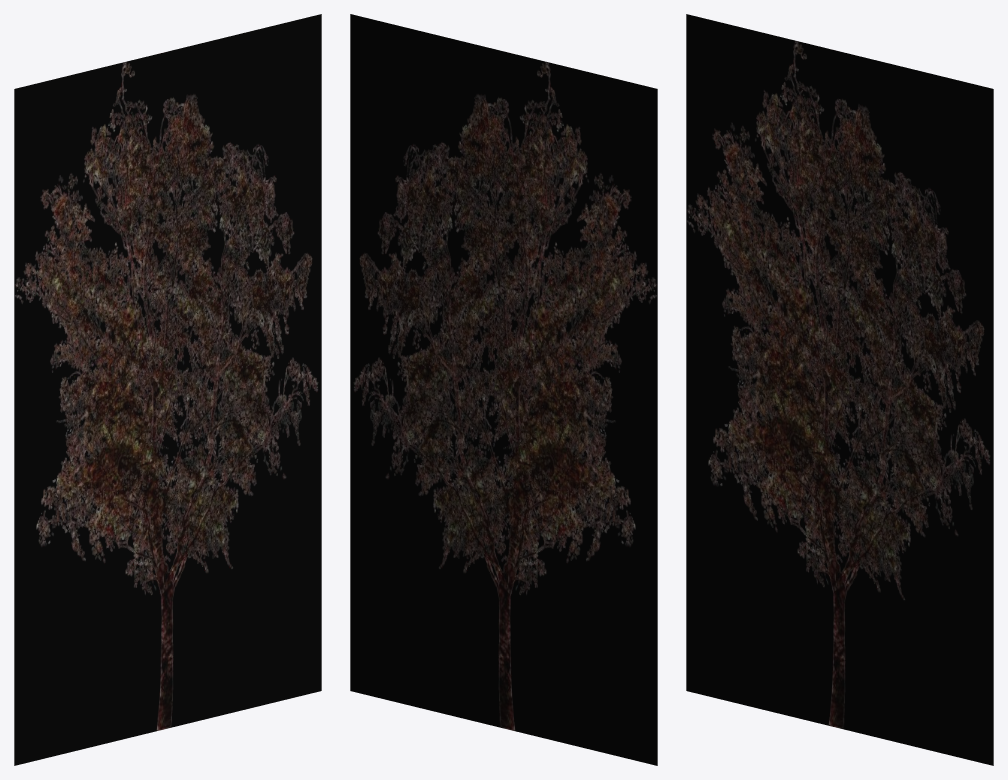
File: 血桦树2平面.gltf
The picture shows the model from 3 angles, left to right: view 1: azimuth 30°, elevation 25°; view 2: azimuth 150°, elevation 25°; view 3: azimuth 330°, elevation 25°; orthographic projection.
Parts seen in each view (by area): view 1: 平面; view 2: 平面; view 3: 平面.
Boxes of the visible parts, left/top/right/bottom form: 平面: left=14, top=14, right=321, bottom=765; 平面: left=350, top=14, right=657, bottom=765; 平面: left=686, top=14, right=993, bottom=765.
Bounding box in the file's own units: 4.69 × 9.87 × 0.00341.
1 material, 1 textured.
